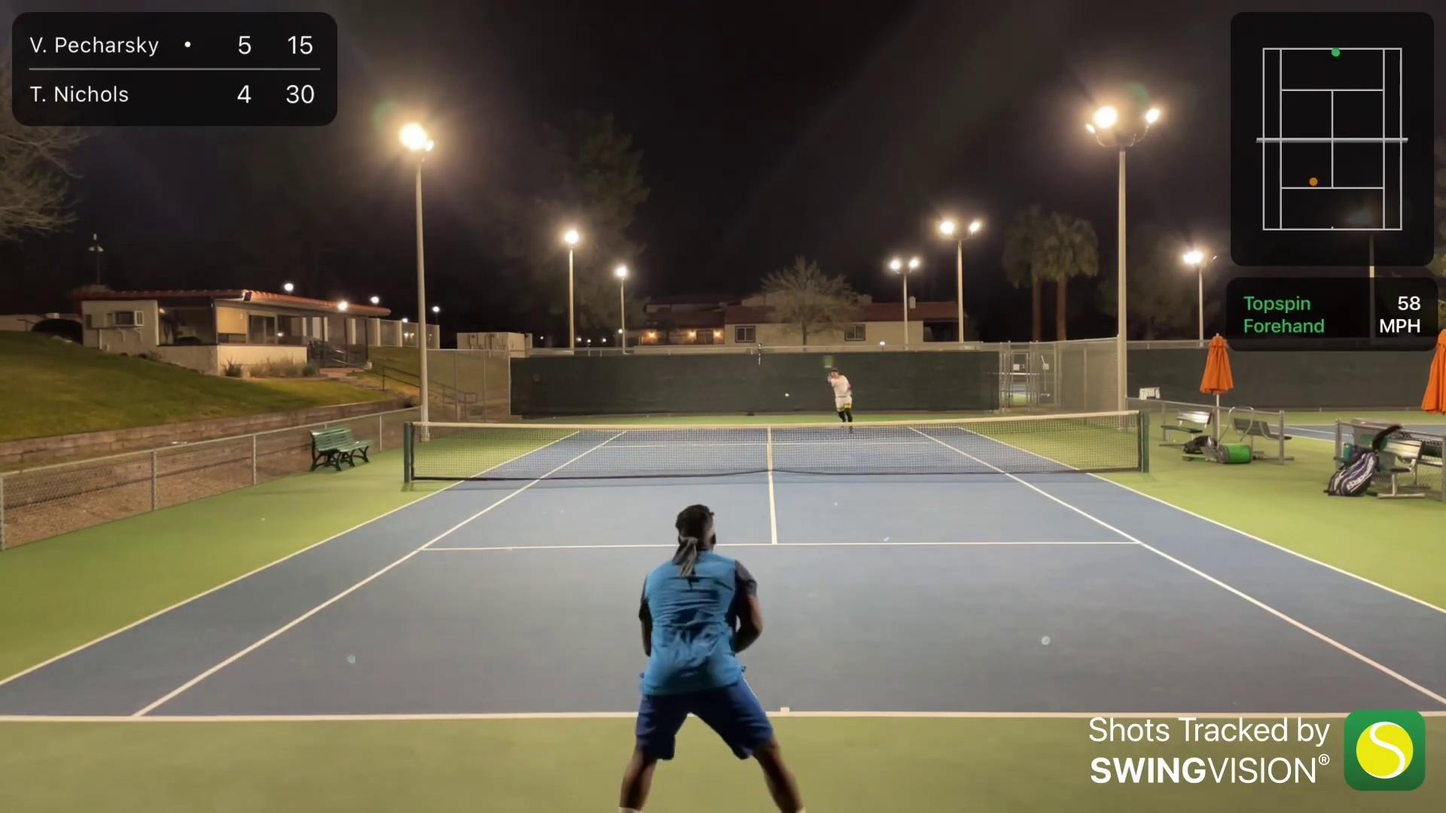ball: (784, 393, 789, 398)
